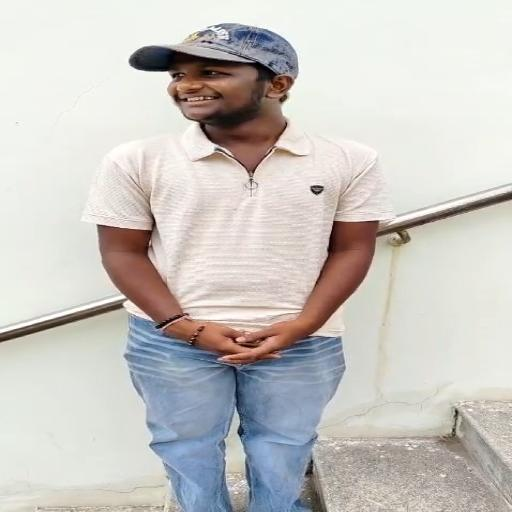employee-detectio-system: (70, 21, 397, 306)
